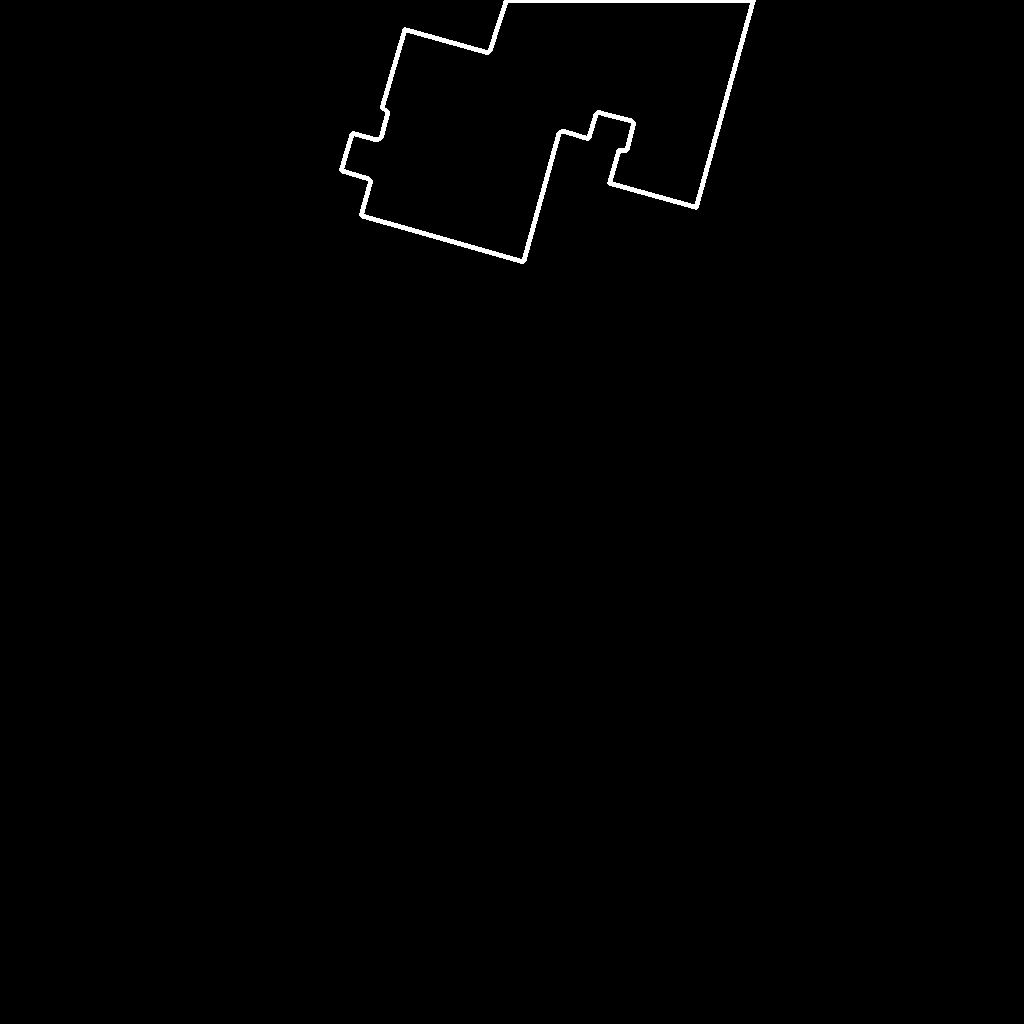building: (341, 0, 755, 263)
